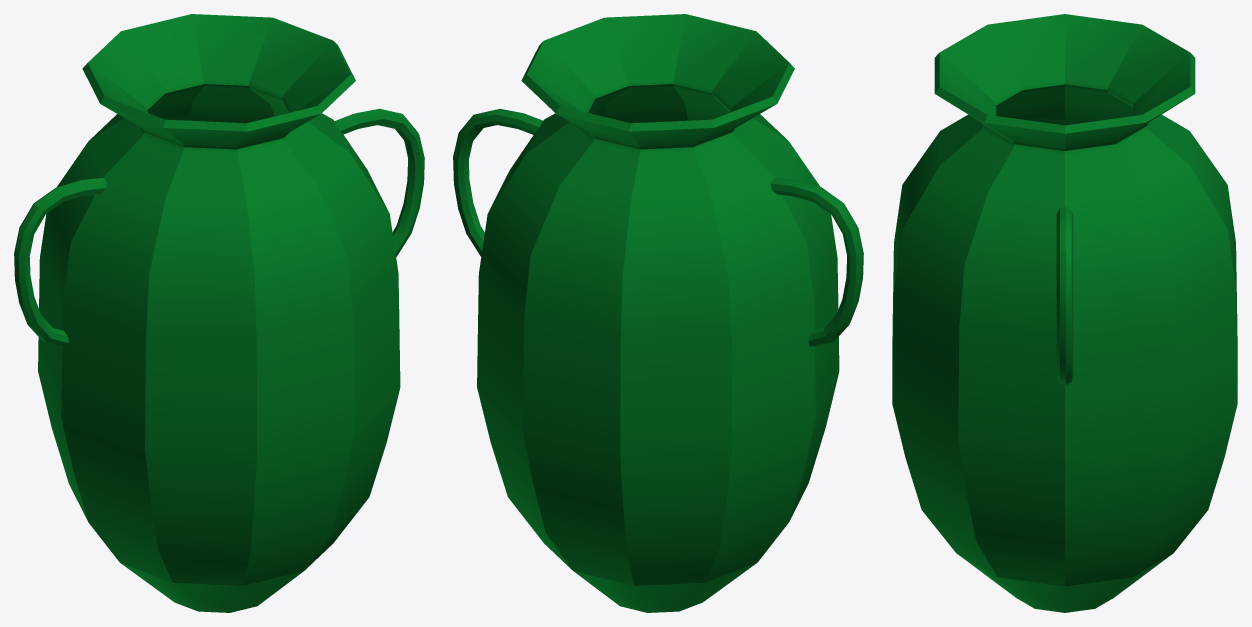
File: Vase lv 4.fbx
The picture shows the model from 3 angles, left to right: view 1: azimuth 30°, elevation 25°; view 2: azimuth 150°, elevation 25°; view 3: azimuth 270°, elevation 25°; orthographic projection.
Parts seen in each view (by area): view 1: Vase; view 2: Vase; view 3: Vase.
Boxes of the visible parts, x1=… form: Vase: x1=14, y1=14, x2=424, y2=612; Vase: x1=453, y1=14, x2=863, y2=612; Vase: x1=892, y1=14, x2=1237, y2=612.
Bounding box in the file's own units: 92.07 × 113 × 67.55.
